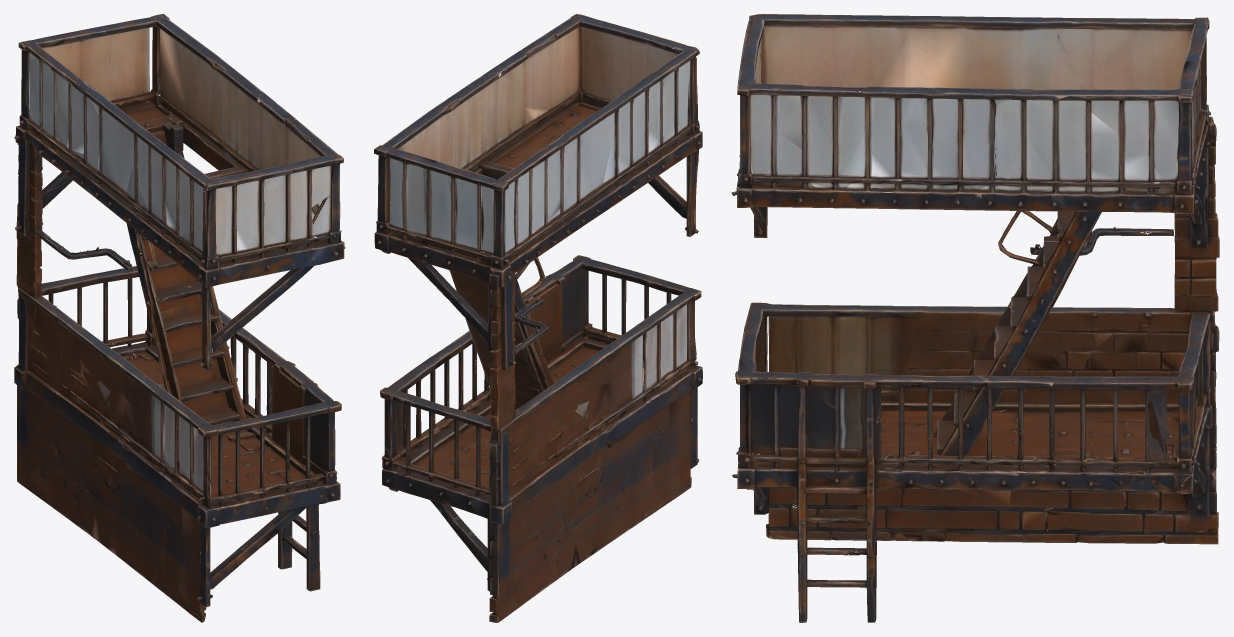
Rendered from fire-escape-brick-wall.glb.
3 views of the same model, side by side, from view 1: azimuth 30°, elevation 25°; view 2: azimuth 150°, elevation 25°; view 3: azimuth 270°, elevation 25° (orthographic). The views are drawn at different scales.
Parts seen in each view (by area): view 1: SM_FireEscapeBrickWall; view 2: SM_FireEscapeBrickWall; view 3: SM_FireEscapeBrickWall.
Boxes of the visible parts, x1,y1,x2,y2 form: SM_FireEscapeBrickWall: (14,14,345,622); SM_FireEscapeBrickWall: (374,14,702,622); SM_FireEscapeBrickWall: (731,14,1219,622).
Bounding box in the file's own units: 2.66 × 7.5 × 6.23.
Materials: 1 (1 with a texture image).
